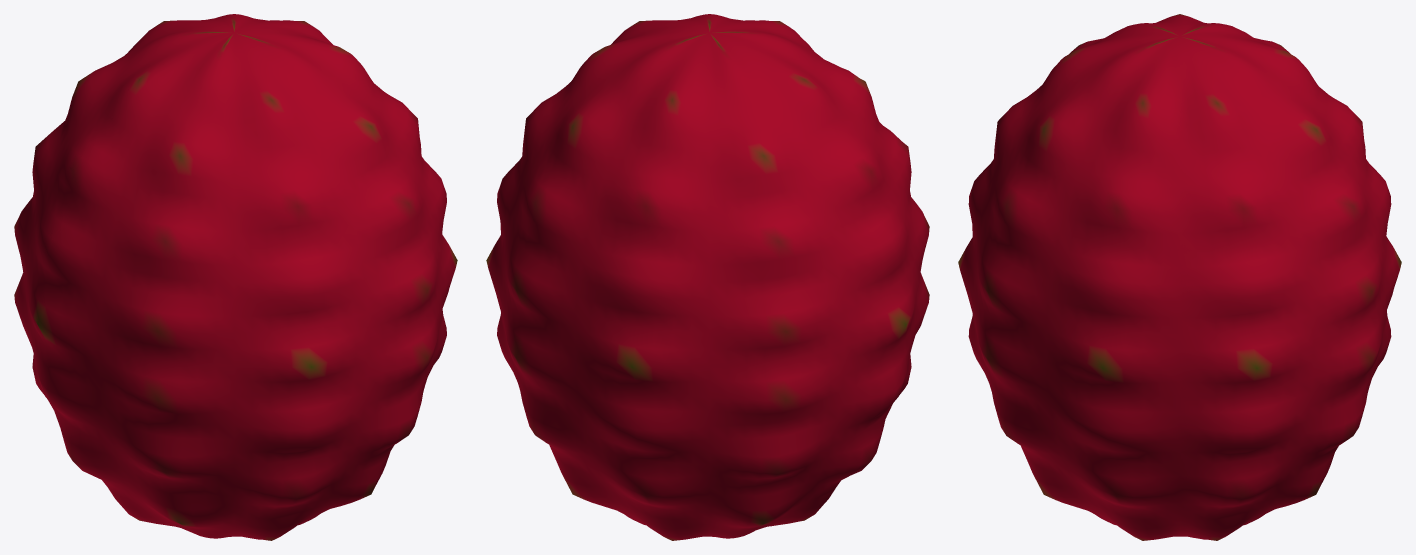
Rendered from pitaya.glb.
3 views of the same model, side by side, from view 1: azimuth 30°, elevation 25°; view 2: azimuth 150°, elevation 25°; view 3: azimuth 270°, elevation 25° (orthographic).
Parts seen in each view (by area): view 1: entier_peau, moitie_B_peau, moitie_A_peau; view 2: entier_peau, moitie_A_peau, moitie_B_peau; view 3: entier_peau, moitie_A_peau, moitie_B_peau.
Boxes of the visible parts, bbox=[...] form: entier_peau: bbox=[14, 14, 457, 540]; moitie_B_peau: bbox=[39, 29, 456, 539]; moitie_A_peau: bbox=[14, 14, 328, 488]; entier_peau: bbox=[486, 14, 929, 540]; moitie_A_peau: bbox=[487, 29, 903, 540]; moitie_B_peau: bbox=[613, 14, 929, 499]; entier_peau: bbox=[958, 14, 1401, 540]; moitie_A_peau: bbox=[1180, 16, 1400, 539]; moitie_B_peau: bbox=[959, 16, 1179, 540].
Size of the model in its own units: 1.64 by 2 by 1.66.
